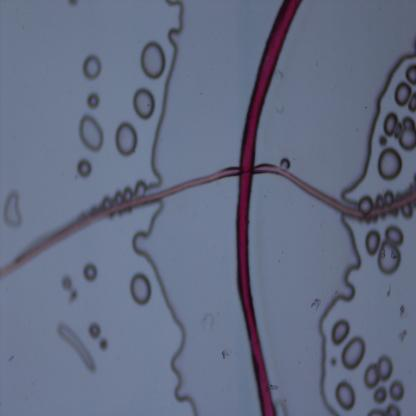Air bubble: (126, 207, 205, 415), (338, 39, 416, 200), (310, 220, 366, 416), (149, 1, 189, 182), (55, 320, 96, 374), (138, 41, 167, 80), (79, 114, 104, 154), (340, 334, 366, 371), (363, 356, 393, 387), (378, 148, 404, 182), (132, 83, 156, 119), (114, 121, 138, 156), (3, 190, 24, 228), (378, 242, 402, 275), (130, 273, 151, 306), (334, 381, 356, 410), (399, 116, 416, 152), (329, 319, 351, 345), (365, 402, 404, 416), (383, 224, 405, 247), (393, 82, 413, 106), (365, 229, 382, 257), (383, 113, 401, 139), (84, 54, 101, 81), (390, 380, 406, 403), (82, 264, 98, 285), (358, 194, 374, 214), (372, 386, 388, 404), (77, 159, 92, 178), (403, 64, 416, 85), (85, 92, 101, 108), (89, 323, 101, 340), (62, 274, 72, 294), (407, 91, 416, 113)
Background material: (389, 318, 414, 345), (200, 305, 218, 330), (309, 295, 328, 312), (397, 300, 410, 319), (223, 345, 232, 362), (98, 337, 108, 352)
Hair textile: (234, 0, 302, 416)
Microfibre: (0, 162, 416, 281)
